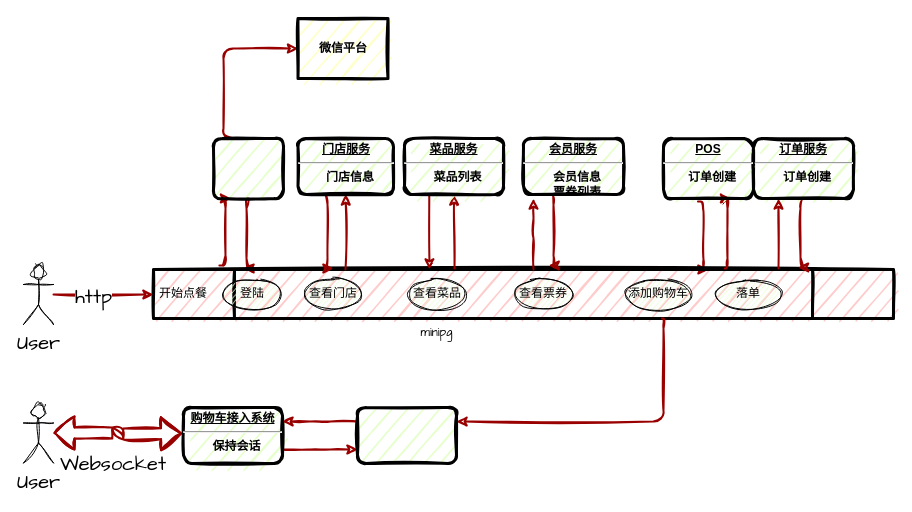
Image size: 912x512. Some labels were removed from this diagram. The box of each missing label's shape, as (x1, y1, x2, y2) in pixels:
消息中心 用户登陆 消息推送: (212, 136, 284, 200)
购物车分发系统 消息分发: (356, 406, 458, 464)
